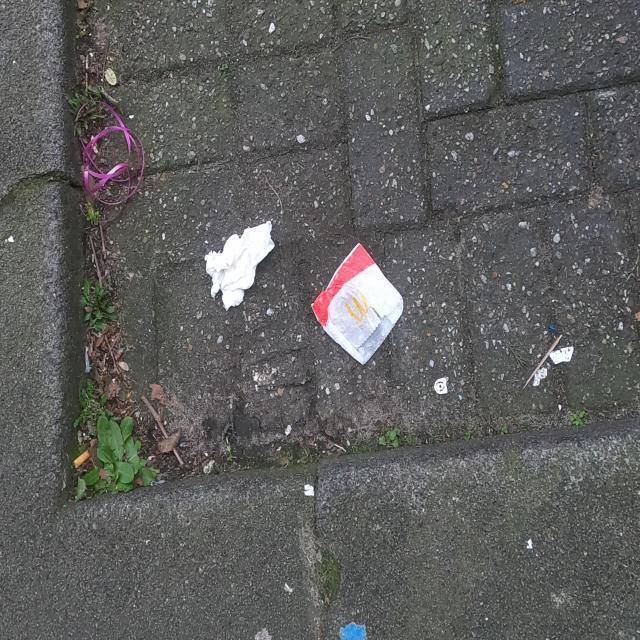Paper: (310, 241, 404, 367), (203, 220, 276, 314)
